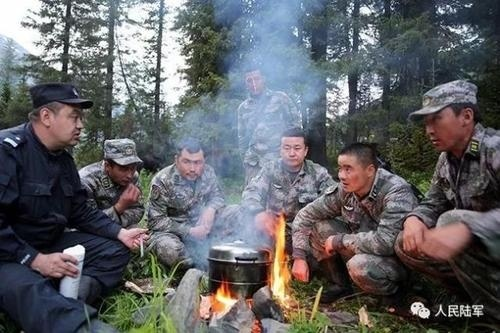fire: (267, 211, 292, 311), (211, 278, 237, 309)
